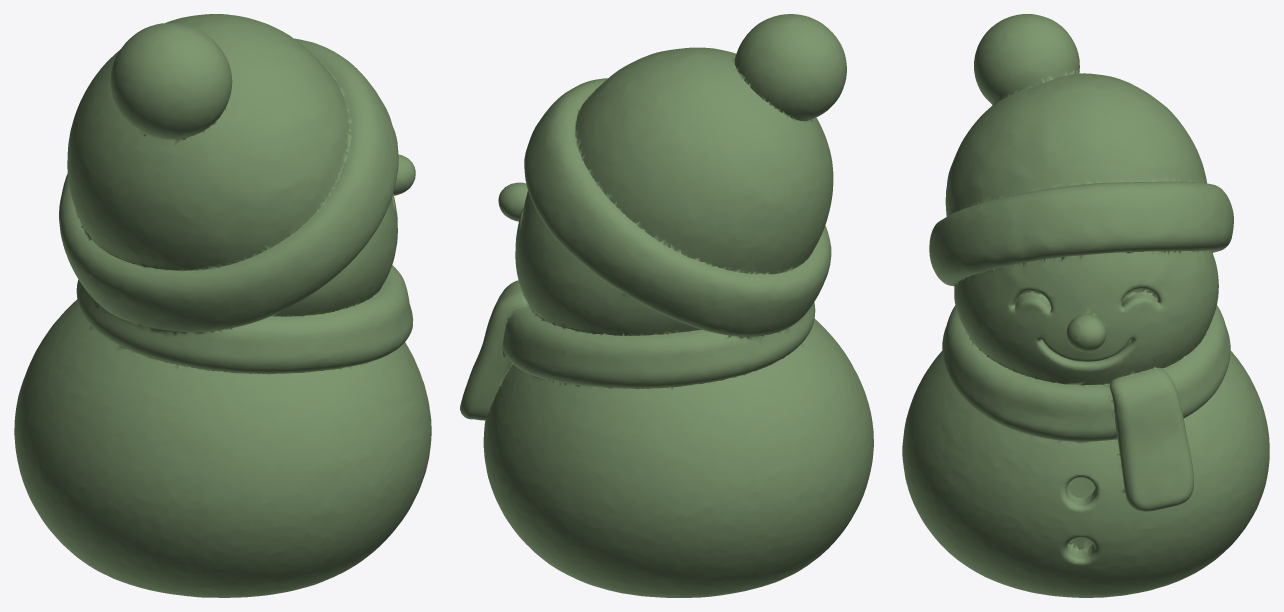
File: snowman.glb
3 renders of one model, left to right at view 1: azimuth 30°, elevation 25°; view 2: azimuth 150°, elevation 25°; view 3: azimuth 270°, elevation 25°, orthographic. The views are drawn at different scales.
Visible parts, largest first — view 1: tripo_printable_source; view 2: tripo_printable_source; view 3: tripo_printable_source.
Part boxes in pixels (x1=…): tripo_printable_source: x1=14, y1=14, x2=431, y2=597; tripo_printable_source: x1=460, y1=14, x2=873, y2=597; tripo_printable_source: x1=902, y1=14, x2=1269, y2=597.
Size of the model in its own units: 70 by 100 by 67.8.
